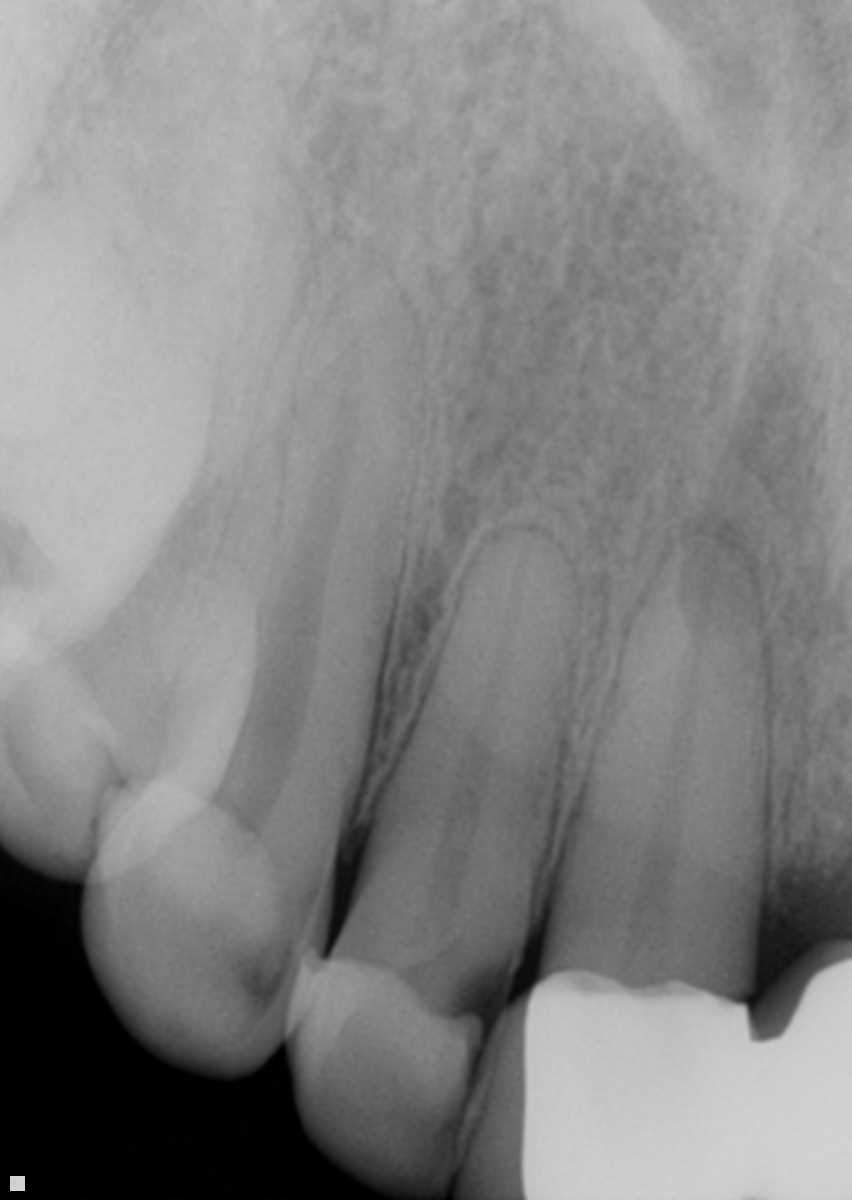Main Canal: (216, 300, 357, 818), (419, 527, 534, 919), (617, 541, 713, 1004)
Main Root: (150, 228, 426, 837), (530, 527, 771, 1026), (363, 521, 584, 942)
decay: (446, 963, 508, 1105)
